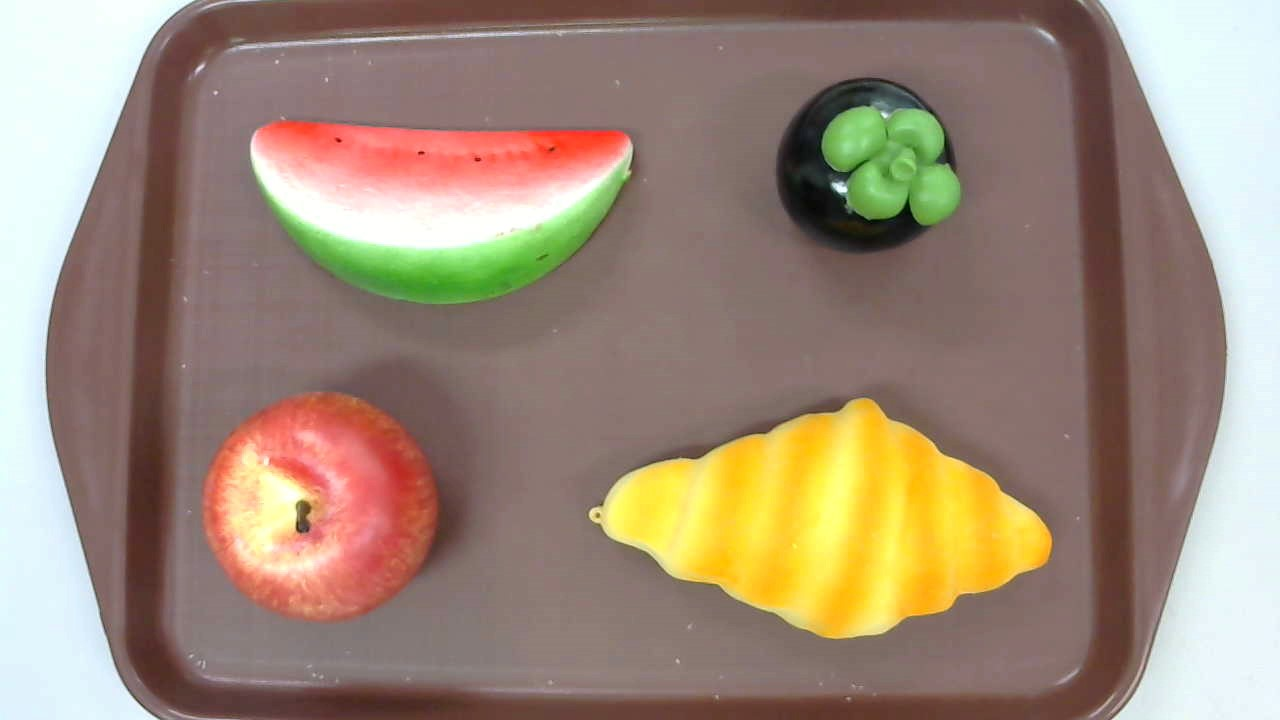croissant: (586, 397, 1053, 641)
mangosteen: (775, 78, 960, 253)
red apple: (201, 389, 437, 622)
water melon: (250, 119, 635, 306)
